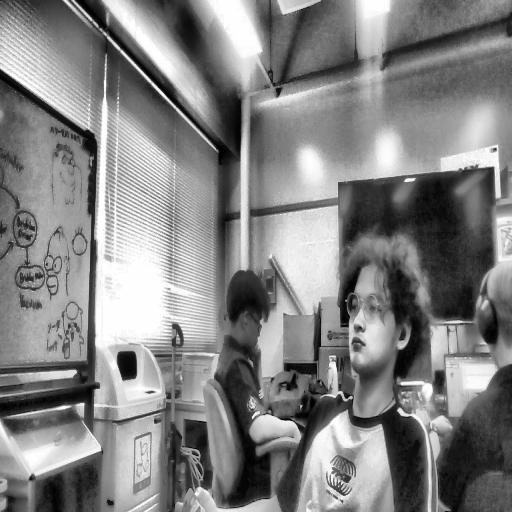Daifuku: (334, 242, 431, 381)
Not Daifuku: (222, 263, 272, 354), (475, 257, 512, 372)
